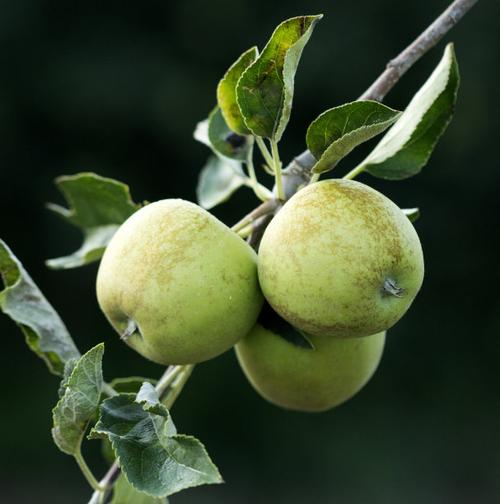unripe: (82, 192, 258, 378), (256, 172, 432, 337), (233, 262, 392, 415)
